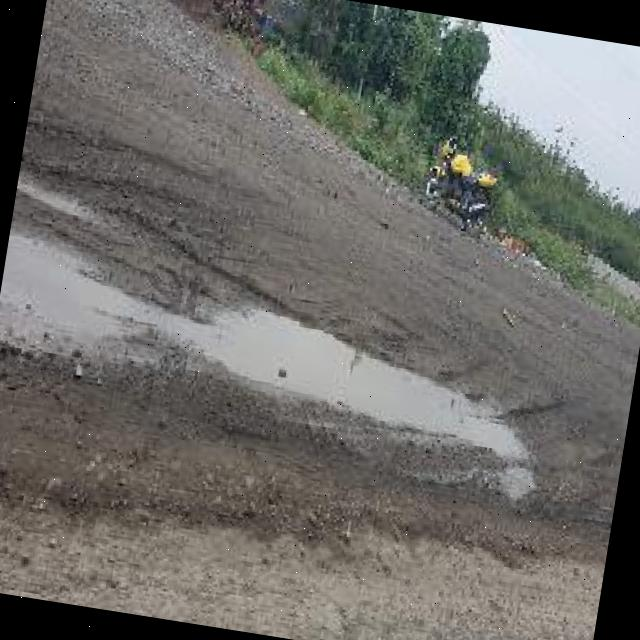stagnation: (0, 243, 544, 457)
